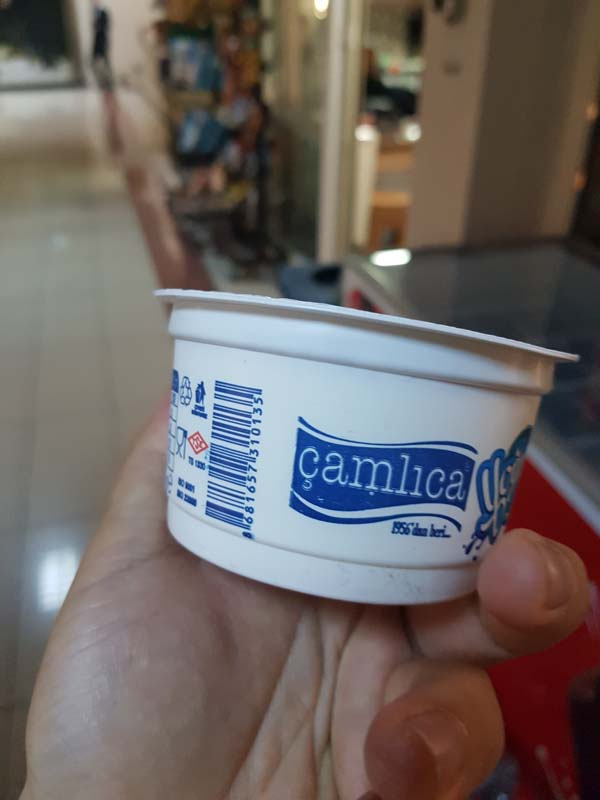camlicayogurt: (144, 281, 582, 614)
